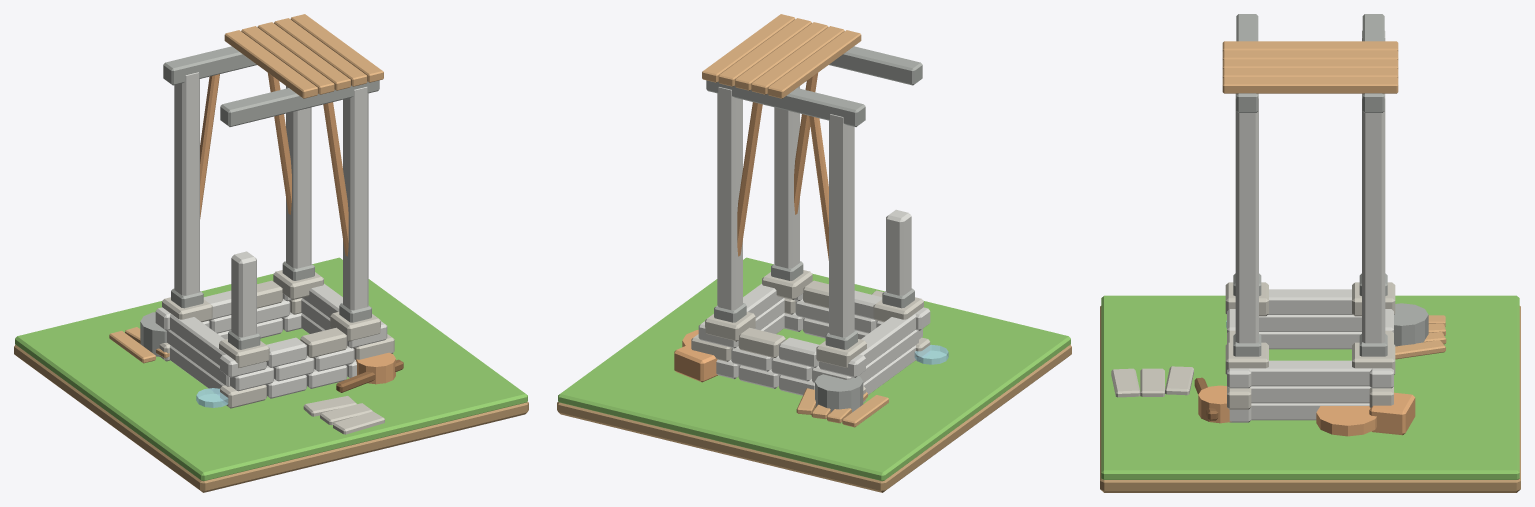
The model's file is tower_l06_damaged.glb.
The picture shows the model from 3 angles, left to right: view 1: azimuth 30°, elevation 25°; view 2: azimuth 150°, elevation 25°; view 3: azimuth 270°, elevation 25°; orthographic projection. The views are drawn at different scales.
Visible parts, largest first — view 1: tower_l06_grass_tile, tower_l06_earth_tile, post_-0.61_0.54, post_0.61_-0.54, post_0.61_0.54, deck_bearer_-0.54, post_-0.61_-0.54, deck_bearer_0.54, deck_board_4, brace_0.61_-0.54, deck_board_5, deck_board_7 (+30 smaller); view 2: tower_l06_grass_tile, tower_l06_earth_tile, post_-0.61_0.54, post_0.61_0.54, post_0.61_-0.54, deck_bearer_0.54, post_-0.61_-0.54, deck_bearer_-0.54, deck_board_4, fallen_relay, brace_0.61_0.54, deck_board_5 (+24 smaller); view 3: tower_l06_grass_tile, tower_l06_earth_tile, post_0.61_0.54, post_0.61_-0.54, deck_board_8, stone_return_2_0.72, stone_return_2_-0.72, stone_return_1_0.72, deck_board_4, deck_board_5, stone_return_1_-0.72, stone_return_0_-0.72 (+23 smaller).
Boxes of the visible parts, x1,y1,x2,y2 form: tower_l06_grass_tile: (15, 257, 527, 481); tower_l06_earth_tile: (14, 344, 528, 492); post_-0.61_0.54: (174, 72, 199, 295); post_0.61_-0.54: (343, 87, 368, 310); post_0.61_0.54: (286, 86, 311, 268); deck_bearer_-0.54: (220, 80, 379, 126); post_-0.61_-0.54: (231, 251, 256, 337); deck_bearer_0.54: (163, 46, 256, 85); deck_board_4: (224, 30, 318, 98); brace_0.61_-0.54: (323, 102, 348, 256); deck_board_5: (241, 26, 334, 94); deck_board_7: (274, 18, 367, 86); tower_l06_grass_tile: (558, 257, 1070, 481); tower_l06_earth_tile: (557, 344, 1071, 492); post_-0.61_0.54: (829, 114, 854, 337); post_0.61_0.54: (717, 87, 742, 310); post_0.61_-0.54: (774, 86, 799, 268); deck_bearer_0.54: (706, 80, 865, 126); post_-0.61_-0.54: (886, 209, 911, 295); deck_bearer_-0.54: (829, 46, 922, 85); deck_board_4: (767, 30, 861, 98); fallen_relay: (815, 374, 863, 412); brace_0.61_0.54: (737, 102, 762, 256); deck_board_5: (751, 26, 844, 94); tower_l06_grass_tile: (1101, 295, 1519, 479); tower_l06_earth_tile: (1100, 306, 1520, 492); post_0.61_0.54: (1362, 93, 1385, 343); post_0.61_-0.54: (1235, 93, 1258, 343); deck_board_8: (1222, 77, 1398, 93); stone_return_2_0.72: (1249, 360, 1371, 386); stone_return_2_-0.72: (1268, 289, 1352, 314); stone_return_1_0.72: (1250, 386, 1370, 403); deck_board_4: (1222, 41, 1398, 51); deck_board_5: (1222, 50, 1398, 59); stone_return_1_-0.72: (1259, 315, 1361, 331); stone_return_0_-0.72: (1259, 332, 1361, 349).
Size of the model in its own units: 3.6 by 3.41 by 3.6.
